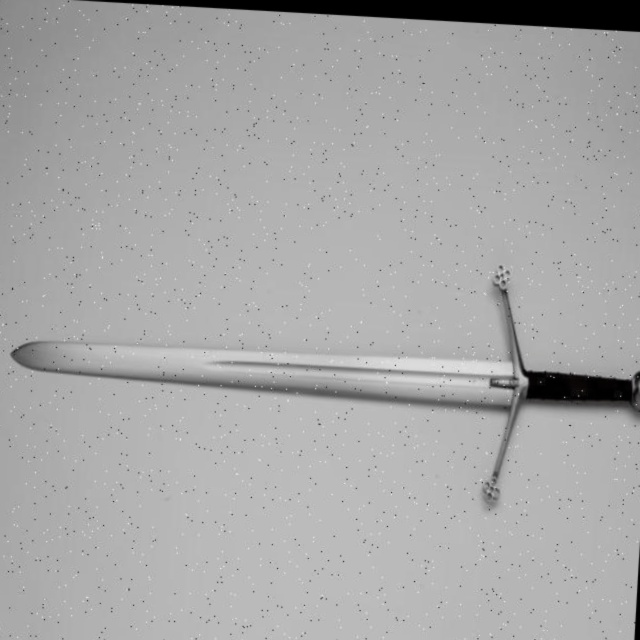Sharp-Object: (13, 322, 640, 440)
